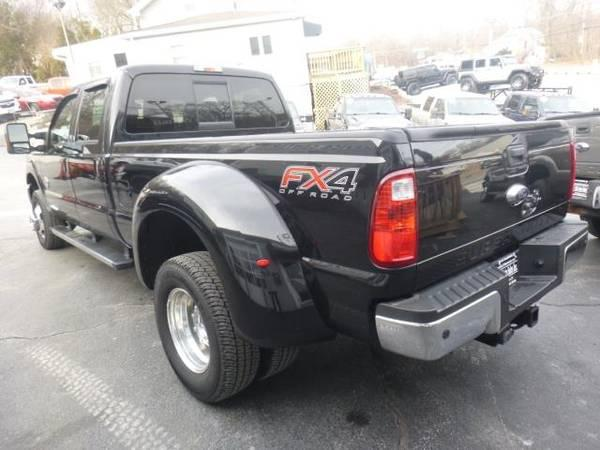Front_Left_Door: (31, 142, 75, 221)
Front_Left_Window: (47, 92, 81, 143)
Left_Taillight: (369, 164, 418, 271)
Rear_Bumper: (379, 212, 593, 353)
Rear_Fender: (112, 129, 418, 346)
Rear_Left_Door: (68, 142, 126, 247)
Rear_Left_Window: (75, 80, 116, 143)
Rear_Windshield: (111, 66, 295, 136)
Tailgate: (405, 121, 572, 286)
Wheel: (153, 252, 300, 401), (31, 189, 69, 250)
